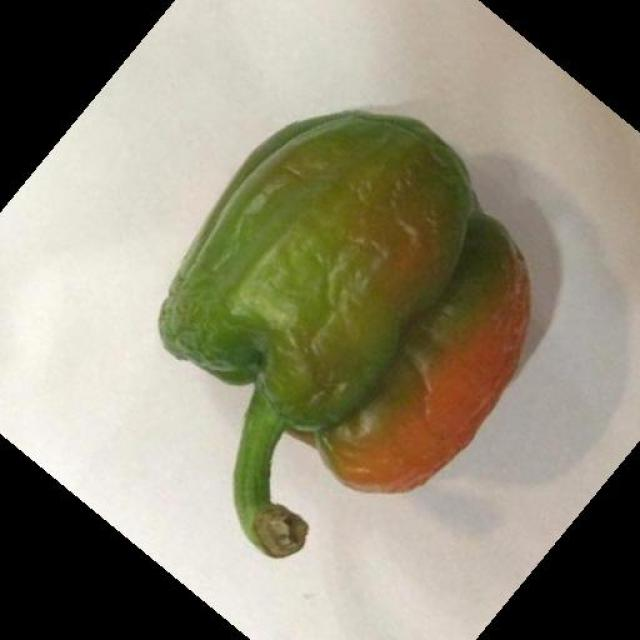Stale_Capsicum: (168, 139, 527, 506)
